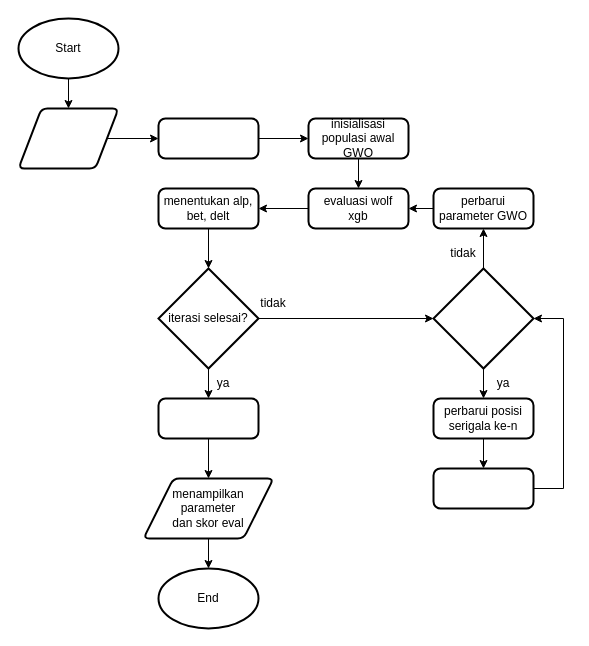
Image size: 589x646. Some labels were removed from this diagram. Here are the shapes that lost their labels. From the top down, the centre of each, then its label:
the point at 68,138: Membaca dataset
the point at 208,138: inisialisasi parameter
the point at 483,318: wolf terakhir != false
the point at 208,418: Memilih alpha
the point at 483,488: wolf ke-n+1
